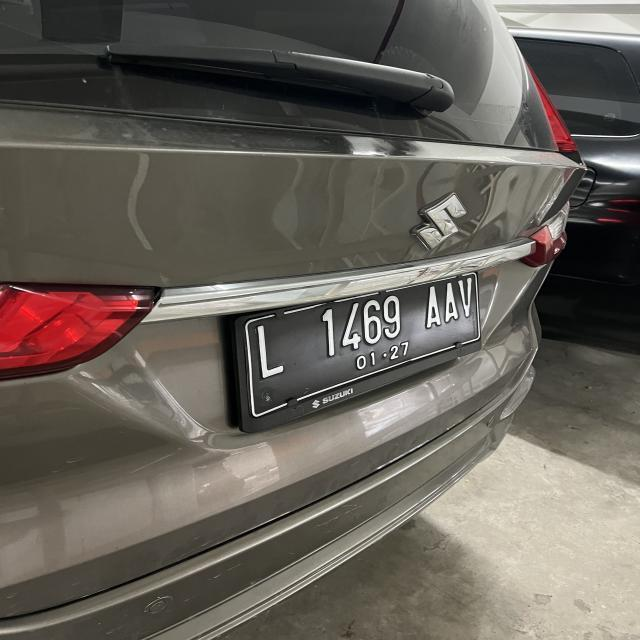1: (320, 309, 338, 360)
4: (342, 302, 362, 349)
6: (363, 301, 383, 344)
9: (384, 293, 402, 341)
A: (424, 284, 441, 329), (443, 281, 458, 322)
L: (251, 324, 287, 378)
V: (459, 280, 475, 322)
